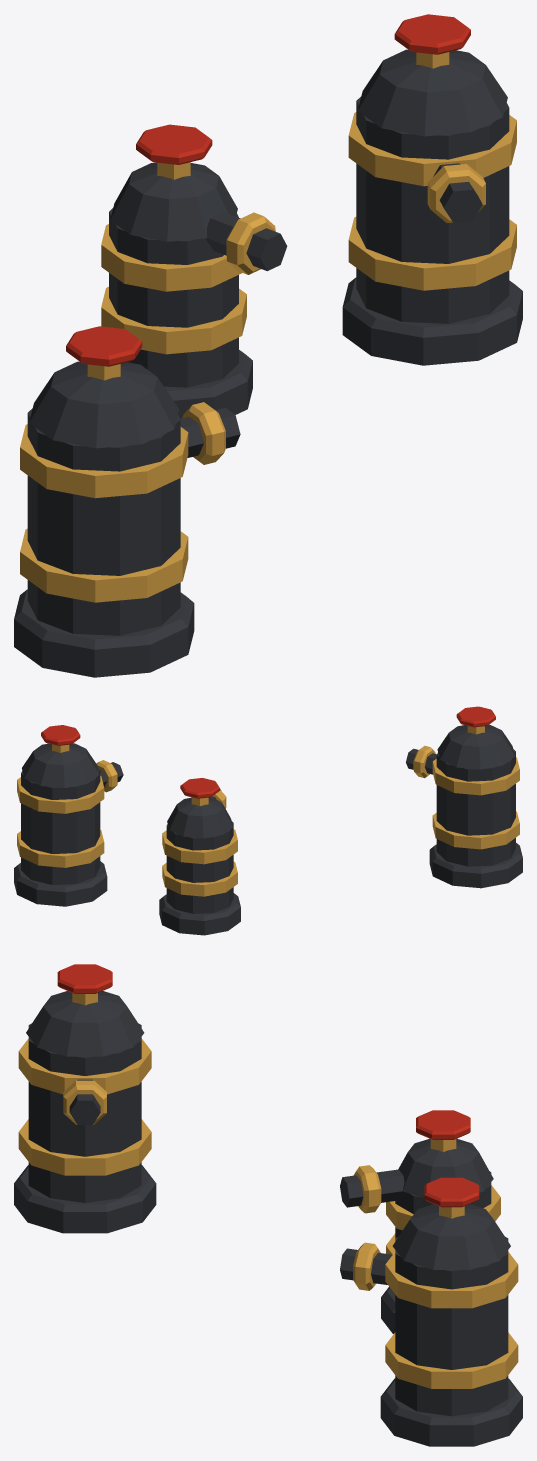
Rendered from BubbleDressA1.obj.
3 renders of one model, top to bottom at view 1: azimuth 30°, elevation 25°; view 2: azimuth 150°, elevation 25°; view 3: azimuth 270°, elevation 25°, orthographic. The views are drawn at different scales.
Visible parts, largest first — view 1: BubbleDressA1; view 2: BubbleDressA1; view 3: BubbleDressA1.
Boxes of the visible parts, x1,y1,x2,y2 form: BubbleDressA1: (14, 14, 522, 677); BubbleDressA1: (14, 706, 522, 935); BubbleDressA1: (14, 964, 522, 1446).
Size of the model in its own units: 1.08 by 0.428 by 0.8582.
